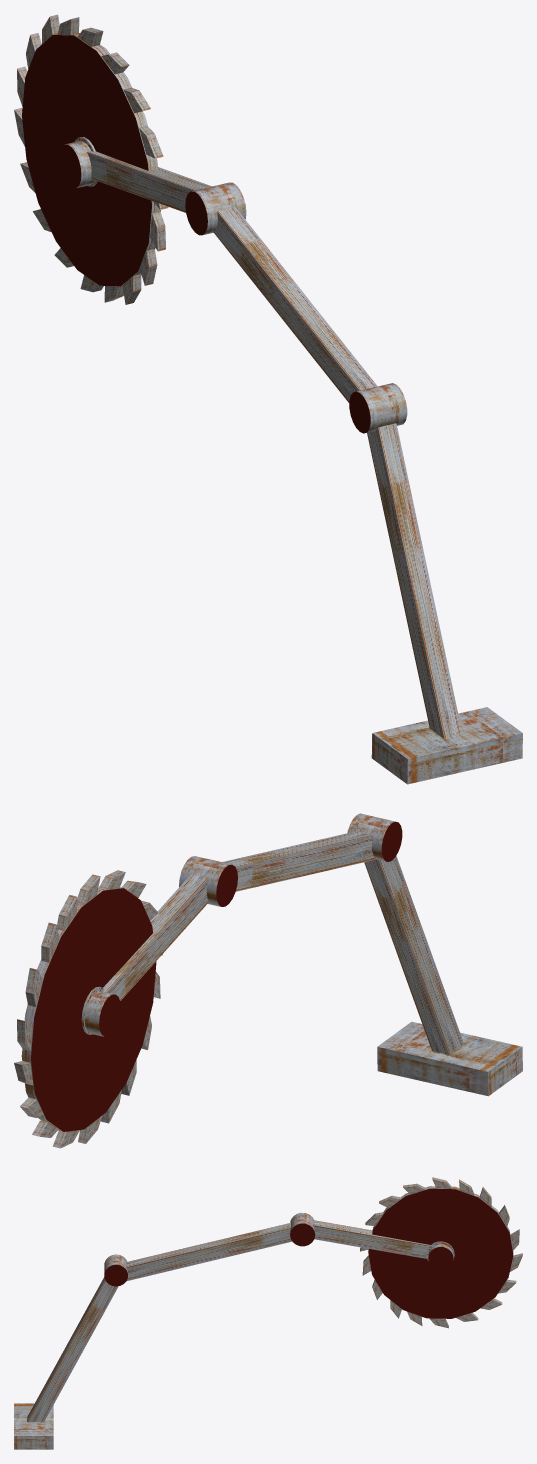
File: Buzzsaw Weapon Extended Textured w weak point.fbx
The picture shows the model from 3 angles, top to bottom: view 1: azimuth 30°, elevation 25°; view 2: azimuth 150°, elevation 25°; view 3: azimuth 270°, elevation 25°; orthographic projection. The views are drawn at different scales.
Visible parts, largest first — view 1: Cylinder001, Object; view 2: Cylinder001, Object; view 3: Object, Cylinder001.
Boxes of the visible parts, <box> form: Cylinder001: <box>14,14,522,784</box>; Object: <box>22,35,370,433</box>; Cylinder001: <box>14,813,522,1148</box>; Object: <box>31,821,402,1131</box>; Object: <box>104,1188,513,1318</box>; Cylinder001: <box>14,1177,522,1449</box>.
Size of the model in its own units: 101 by 388 by 693.
2 materials, 1 textured.
